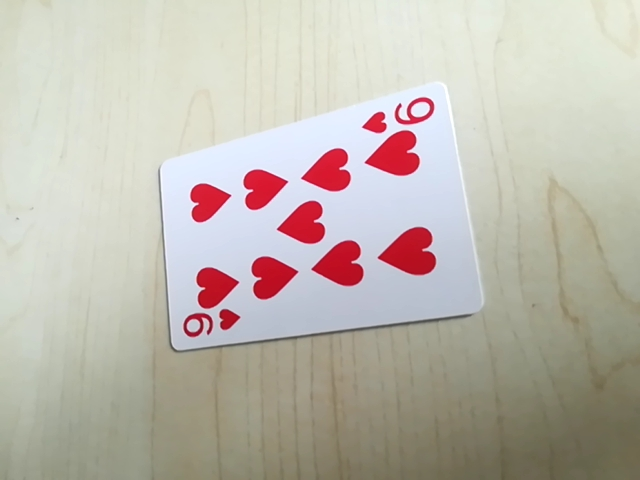hx 9: (359, 91, 442, 136), (177, 307, 241, 345)
